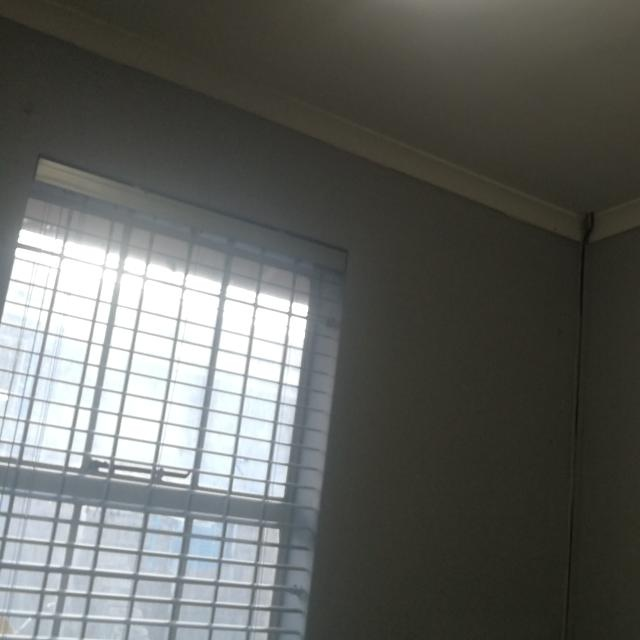fluorescent tube: (321, 0, 640, 31)
